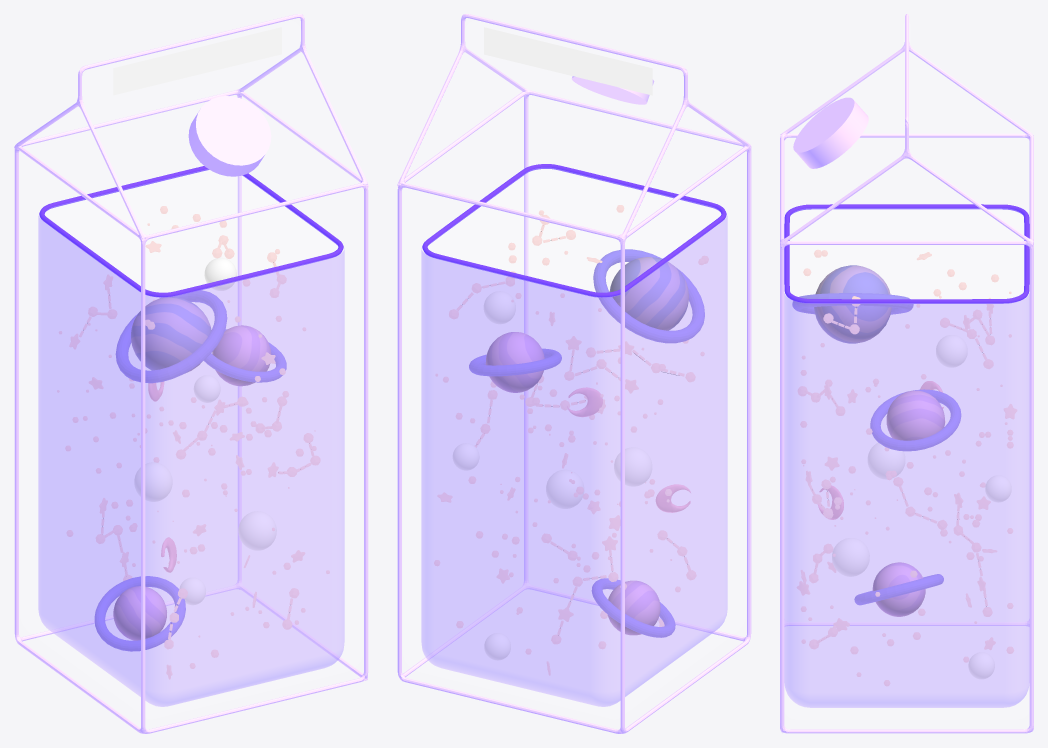
Rendered from milk.glb.
3 views of the same model, side by side, from view 1: azimuth 30°, elevation 25°; view 2: azimuth 150°, elevation 25°; view 3: azimuth 270°, elevation 25° (orthographic).
Parts seen in each view (by area): view 1: SpaceMilk; view 2: SpaceMilk; view 3: SpaceMilk.
Boxes of the visible parts, box(x1,y1,x2,y2) form: SpaceMilk: box(14, 14, 368, 733); SpaceMilk: box(397, 14, 751, 733); SpaceMilk: box(780, 14, 1033, 733).
Bounding box in the file's own units: 1.36 × 3.57 × 1.34.
Materials: 15 (1 with a texture image).
